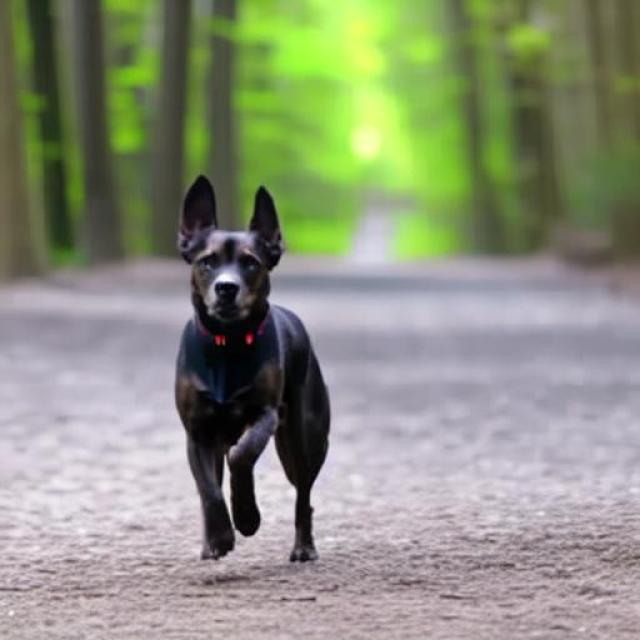Dog: (174, 173, 333, 561)
